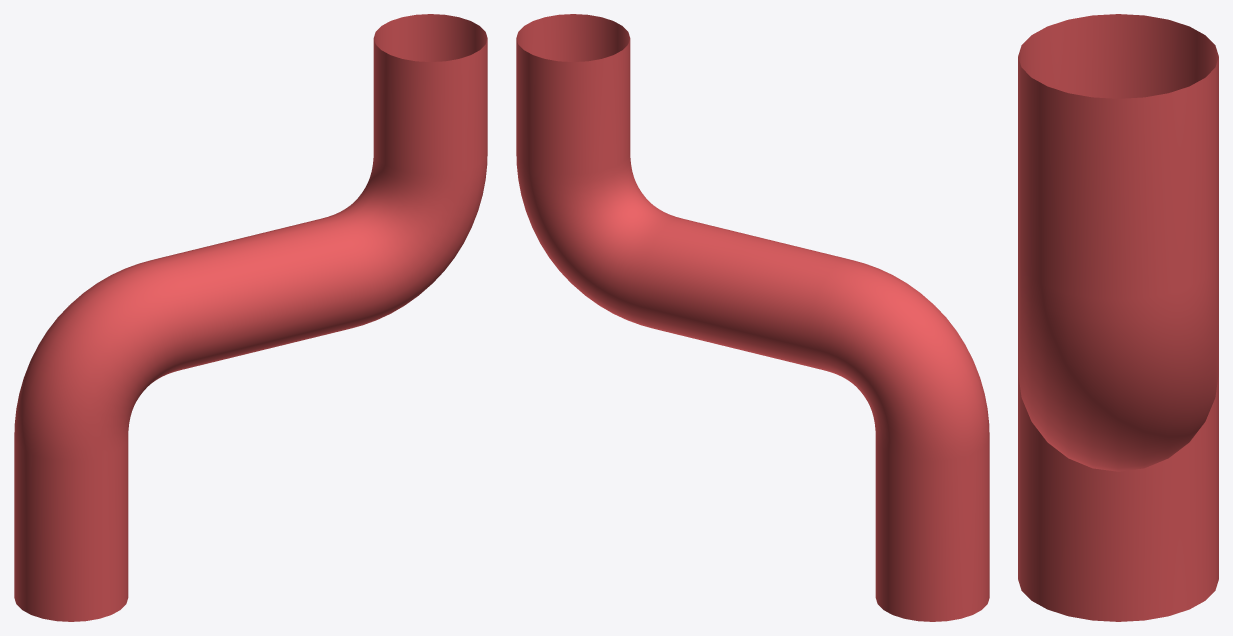
The model's file is pipelinesansfond.glb.
3 views of the same model, side by side, from view 1: azimuth 30°, elevation 25°; view 2: azimuth 150°, elevation 25°; view 3: azimuth 270°, elevation 25° (orthographic). The views are drawn at different scales.
Parts seen in each view (by area): view 1: Plane; view 2: Plane; view 3: Plane.
Boxes of the visible parts, <box> form: Plane: <box>14,14,487,621</box>; Plane: <box>516,14,989,621</box>; Plane: <box>1018,14,1218,621</box>.
Size of the model in its own units: 1.23 by 1.21 by 0.2648.
